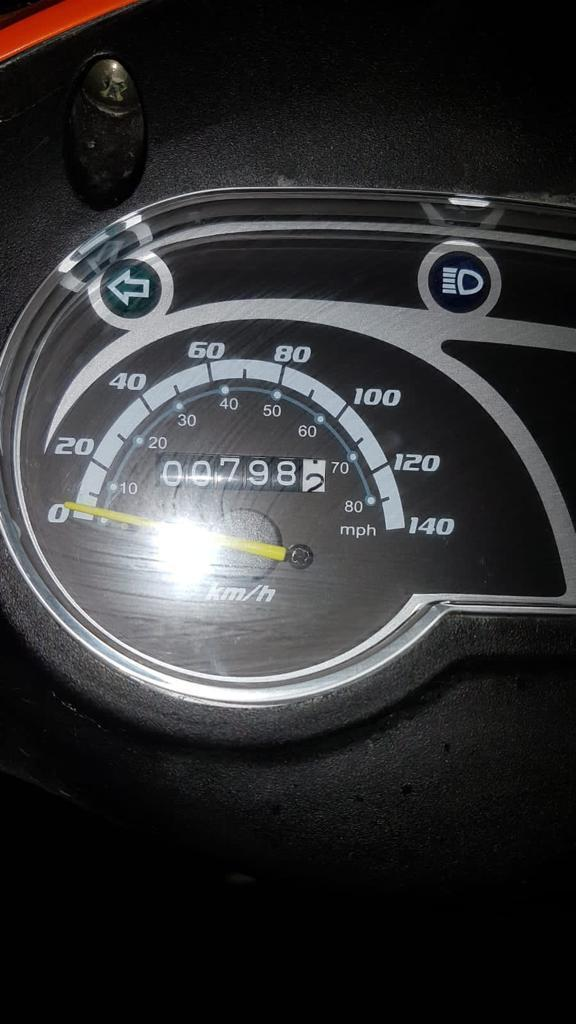0: (162, 459, 182, 486), (191, 460, 210, 486)
2: (305, 472, 324, 495)
7: (219, 457, 239, 482)
8: (276, 460, 296, 486)
9: (247, 459, 269, 485)
odometer: (153, 450, 327, 494)
